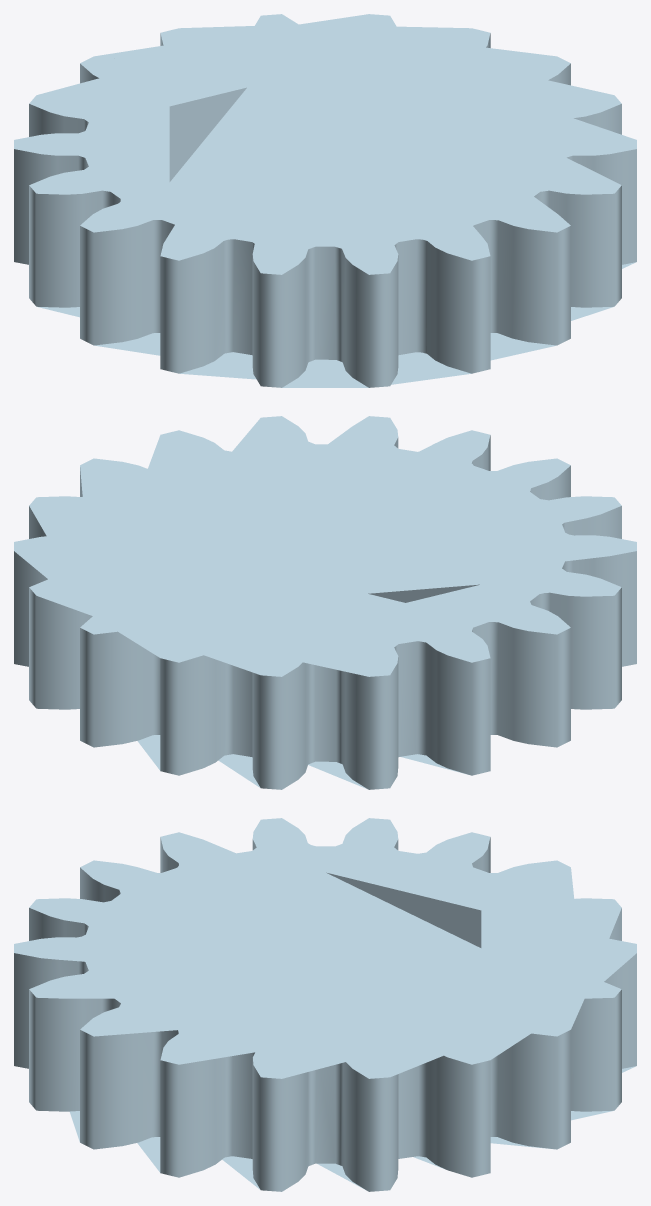
File: hex18t.fbx
The picture shows the model from 3 angles, top to bottom: view 1: azimuth 30°, elevation 25°; view 2: azimuth 150°, elevation 25°; view 3: azimuth 270°, elevation 25°; orthographic projection.
Visible parts, largest first — view 1: Spur gear (18 teeth); view 2: Spur gear (18 teeth); view 3: Spur gear (18 teeth).
Boxes of the visible parts, x1,y1,x2,y2 form: Spur gear (18 teeth): [14, 14, 636, 387]; Spur gear (18 teeth): [14, 416, 636, 789]; Spur gear (18 teeth): [14, 818, 636, 1191].
Size of the model in its own units: 2.52 by 0.508 by 2.54.
